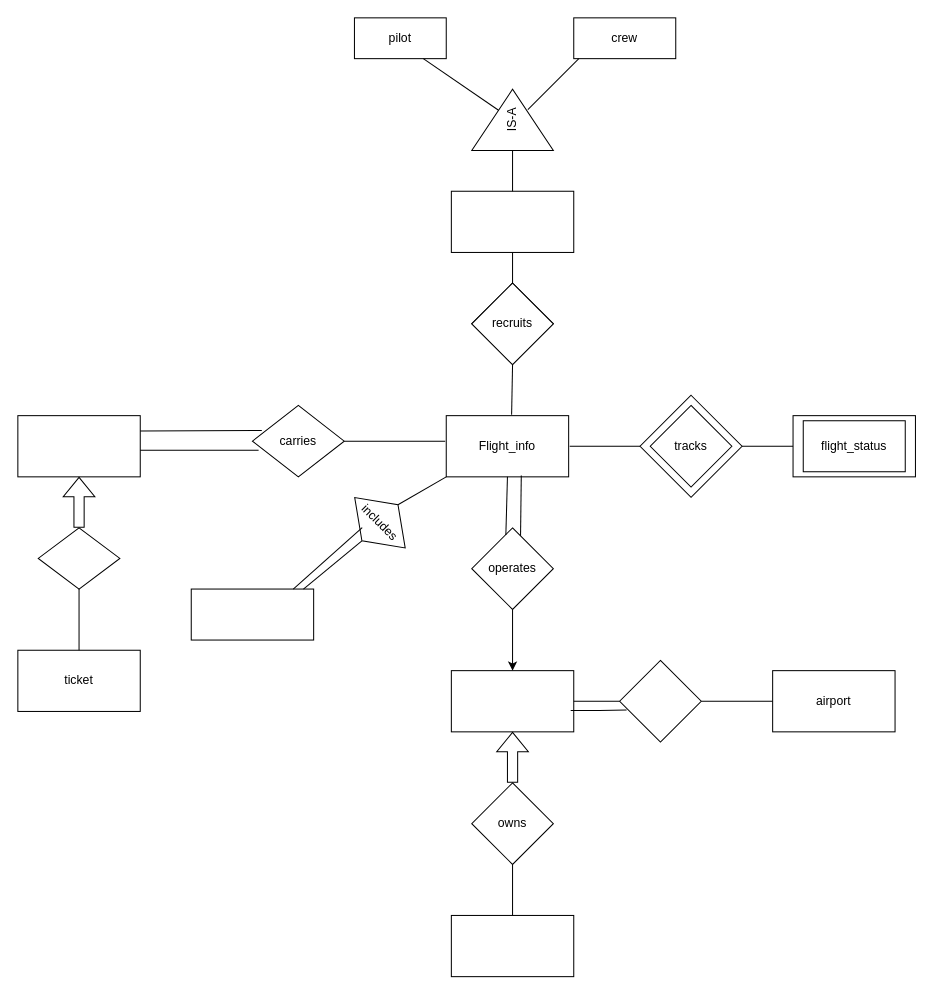
The diagram is 933 pixels wide and 995 high, and some of its shapes have lost their labels. Here are the shapes that lost their labels. From the top down, the box of each, then its label:
(450, 190, 574, 252): employee
(17, 415, 140, 477): passenger
(37, 527, 120, 589): buys
(190, 588, 314, 640): Catering
(450, 670, 574, 732): airline
(619, 659, 701, 742): lands
(450, 914, 574, 977): aircraft
